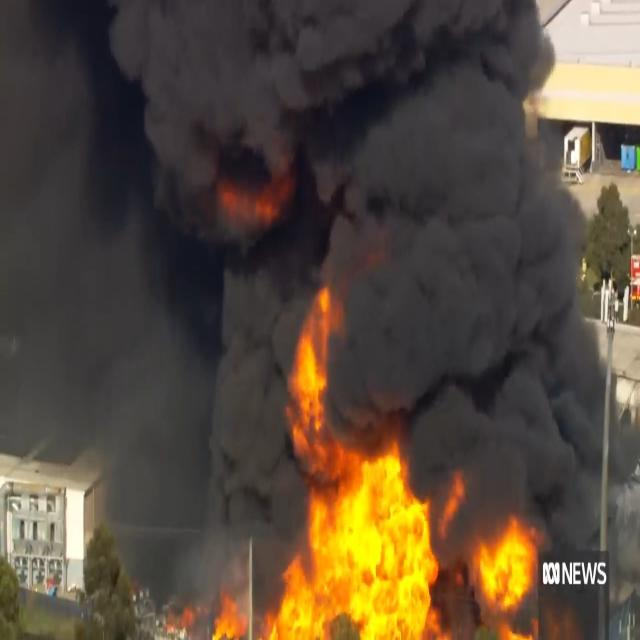fire: (150, 449, 545, 638), (281, 278, 345, 443), (224, 159, 298, 212)
